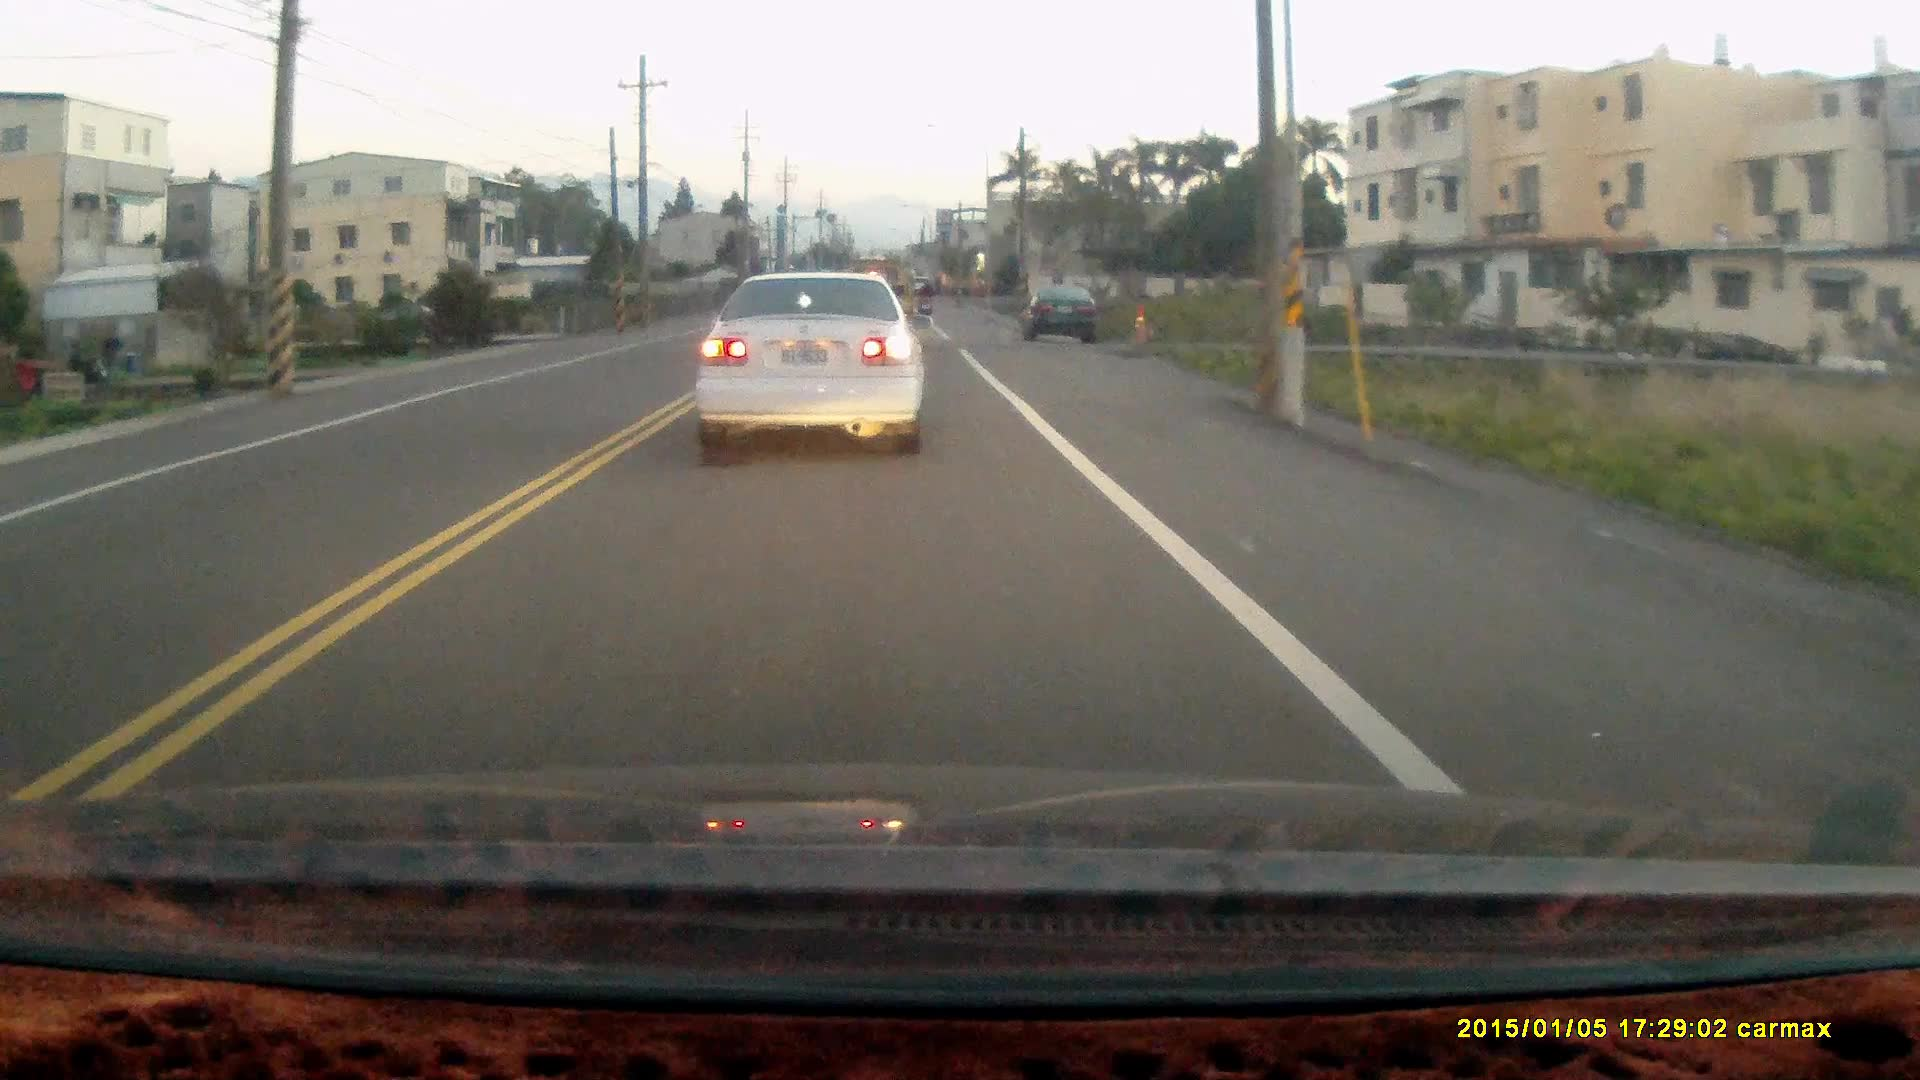pedestrian: (15, 348, 43, 413)
vehicle: (694, 269, 929, 459), (1024, 285, 1101, 346)
